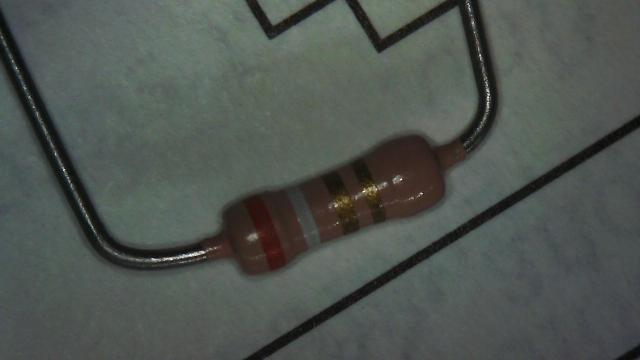gold: (322, 172, 358, 234), (357, 167, 387, 218)
orange: (244, 195, 285, 270)
resistor: (198, 112, 472, 291)
white: (286, 186, 321, 250)
